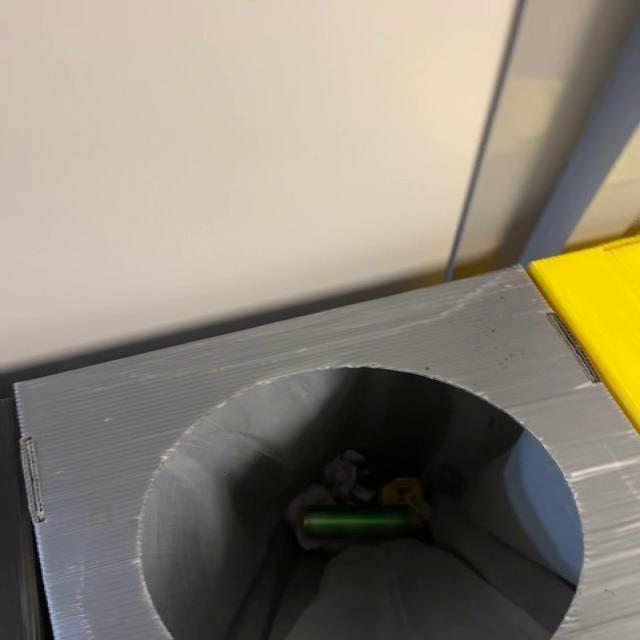Bin: (16, 268, 639, 640)
Metal: (301, 506, 416, 540)
